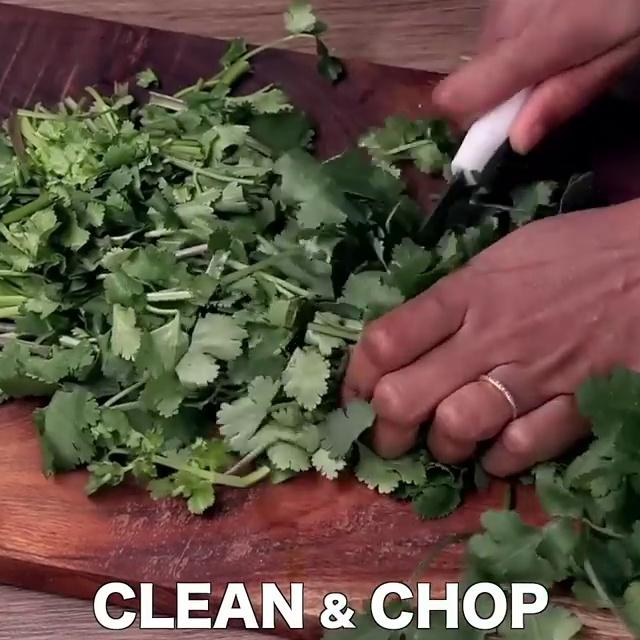cilantro: (0, 77, 338, 456), (571, 377, 640, 640)
